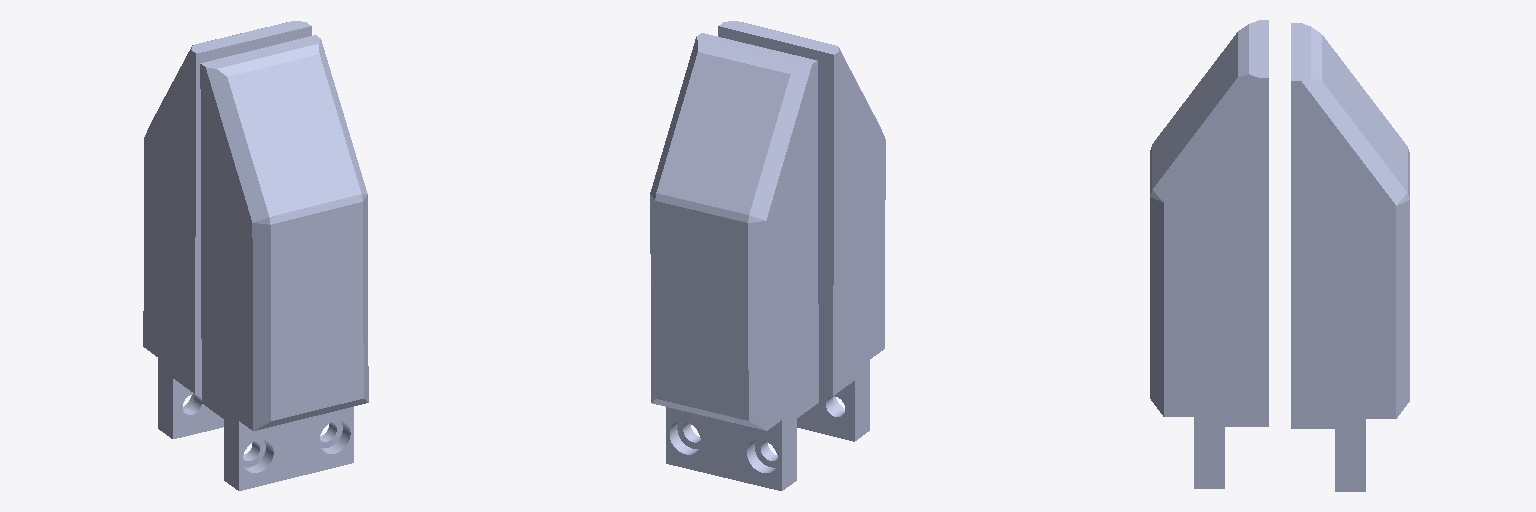
URDF robot description (wsg_32_description):
<?xml version="1.0"?>
<robot
  name="wsg_32_description">
  <link
    name="hand_link">
    <inertial>
      <origin
        xyz="-6.56023314178677E-06 -0.00175309107853196 0.0266239521718502"
        rpy="0 0 0" />
      <mass
        value="0.19187770361295" />
      <inertia
        ixx="0.000259095961095666"
        ixy="-4.42589635811335E-08"
        ixz="-8.19503266406055E-09"
        iyy="6.70924748330843E-05"
        iyz="-6.65748470338111E-06"
        izz="0.000219527960705521" />
    </inertial>
    <visual>
      <origin
        xyz="0 0 0"
        rpy="0 0 0" />
      <geometry>
        <mesh
          filename="package://wsg_32_description/meshes/hand_link.STL" />
      </geometry>
      <material
        name="">
        <color
          rgba="0.792156862745098 0.819607843137255 0.933333333333333 1" />
      </material>
    </visual>
    <collision>
      <origin
        xyz="0 0 0"
        rpy="0 0 0" />
      <geometry>
        <mesh
          filename="package://wsg_32_description/meshes/hand_link.STL" />
      </geometry>
    </collision>
  </link>
  <link
    name="wsg_50_gripper_base_link_gripper_left">
    <inertial>
      <origin
        xyz="-2.850603053553E-05 -0.00191114285188175 0.00382933445364996"
        rpy="0 0 0" />
      <mass
        value="3.41920163633724E-06" />
      <inertia
        ixx="3.06504383705634E-10"
        ixy="5.74222476890191E-11"
        ixz="-2.40533503848462E-10"
        iyy="4.90275789305826E-10"
        iyz="6.8945176052368E-11"
        izz="2.18298925049827E-10" />
    </inertial>
    <visual>
      <origin
        xyz="-0.00725 0 0.0004"
        rpy="0 1.57079 0" />
      <geometry>
        <mesh
          filename="package://wsg_32_description/meshes/left_finger_link.STL" />
      </geometry>
      <material
        name="">
        <color
          rgba="0.792156862745098 0.819607843137255 0.933333333333333 1" />
      </material>
    </visual>
    <collision>
      <origin
        xyz="0 0 0"
        rpy="0 0 0" />
      <geometry>
        <mesh
          filename="package://wsg_32_description/meshes/left_finger_link.STL" />
      </geometry>
    </collision>
  </link>
  <joint
    name="wsg_50_gripper_base_joint_gripper_left"
    type="prismatic">
    <origin
      xyz="-0.0003903 -0.0078 0.069014"
      rpy="3.1416 -1.5708 0" />
    <parent
      link="hand_link" />
    <child
      link="wsg_50_gripper_base_link_gripper_left" />
    <axis
      xyz="0 -1 0" />
    <limit
      lower="-0.028"
      upper="0"
      effort="0"
      velocity="0" />
  </joint>
  <link
    name="wsg_50_gripper_base_link_gripper_right">
    <inertial>
      <origin
        xyz="-2.72000777333109E-05 -0.00460993992652343 -0.00191114282807962"
        rpy="-1.57079 3.14159 -1.57079" />
      <mass
        value="3.41920163633724E-06" />
      <inertia
        ixx="3.06504383705634E-10"
        ixy="2.40533503848236E-10"
        ixz="5.74222476899625E-11"
        iyy="2.18298925050368E-10"
        iyz="-6.89451760534347E-11"
        izz="4.90275789305286E-10" />
    </inertial>
    <visual>
      <origin
        xyz="-0.00725 0 0.0004"
        rpy="-1.57079 3.14159  -1.57079" />
      <geometry>
        <mesh
          filename="package://wsg_32_description/meshes/right_finger_link.STL" />
      </geometry>
      <material
        name="">
        <color
          rgba="0.792156862745098 0.819607843137255 0.933333333333333 1" />
      </material>
    </visual>
    <collision>
      <origin
        xyz="0 0 0"
        rpy="0 0 0" />
      <geometry>
        <mesh
          filename="package://wsg_32_description/meshes/right_finger_link.STL" />
      </geometry>
    </collision>
  </link>
  <joint
    name="wsg_50_gripper_base_joint_gripper_right"
    type="prismatic">
    <origin
      xyz="-0.0003903 0.0078 0.069012"
      rpy="-1.5708 -1.5708 0" />
    <parent
      link="hand_link" />
    <child
      link="wsg_50_gripper_base_link_gripper_right" />
    <axis
      xyz="0 0 1" />
    <limit
      lower="0"
      upper="0.028"
      effort="0"
      velocity="0" />
  </joint>


  <!-- add fingers to actuated segments -->

  <link
    name="right_universal_finger_link">
    <inertial>
      <origin
        xyz="0 0 0"
        rpy="0 0 0" />
      <mass
        value="0.001" />
      <inertia
        ixx="3.06504383705634E-10"
        ixy="2.40533503848236E-10"
        ixz="5.74222476899625E-11"
        iyy="2.18298925050368E-10"
        iyz="-6.89451760534347E-11"
        izz="4.90275789305286E-10" />
    </inertial>
    <visual>
      <origin
        xyz="-0.01 0 0.00"
        rpy="0 0 0" />
      <geometry>
        <mesh
          filename="package://wsg_32_description/meshes/gelsight_finger.stl" />
      </geometry>
      <material
        name="">
        <color
          rgba="0.792156862745098 0.819607843137255 0.933333333333333 1" />
      </material>
    </visual>
    <collision>
      <origin
        xyz="0 0 0"
        rpy="0 0 0" />
      <geometry>
        <mesh
          filename="package://wsg_32_description/meshes/gelsight_finger.stl" />
      </geometry>
    </collision>
  </link>
  <joint
    name="right_universal_finger_joint"
    type="fixed">
    <origin
      xyz="0.00755 0.0 0.0049"
      rpy="0 -1.57079 -1.57079" />
    <parent
      link="wsg_50_gripper_base_link_gripper_right" />
    <child
      link="right_universal_finger_link" />
  </joint>

  <link
    name="left_universal_finger_link">
    <inertial>
      <origin
        xyz="0 0 0"
        rpy="0 0 0" />
      <mass
        value="0.001" />
      <inertia
        ixx="3.06504383705634E-10"
        ixy="2.40533503848236E-10"
        ixz="5.74222476899625E-11"
        iyy="2.18298925050368E-10"
        iyz="-6.89451760534347E-11"
        izz="4.90275789305286E-10" />
    </inertial>
    <visual>
      <origin
        xyz="-0.00 0 0.00"
        rpy="0 0 0" />
      <geometry>
        <mesh
          filename="package://wsg_32_description/meshes/gelsight_finger.stl" />
      </geometry>
      <material
        name="">
        <color
          rgba="0.792156862745098 0.819607843137255 0.933333333333333 1" />
      </material>
    </visual>
    <collision>
      <origin
        xyz="0 0 0"
        rpy="0 0 0" />
      <geometry>
        <mesh
          filename="package://wsg_32_description/meshes/gelsight_finger.stl" />
      </geometry>
    </collision>
  </link>
  <joint
    name="left_universal_finger_joint"
    type="fixed">
    <origin
      xyz="0.00755 -0.0045 0"
      rpy="0 3.14159 -1.57079" />
    <parent
      link="wsg_50_gripper_base_link_gripper_left" />
    <child
      link="left_universal_finger_link" />
  </joint>

</robot>

--- Facts derived from the render (not from the file) ---
Views: 3 orthographic renders of the robot side by side, from view 1: azimuth 30°, elevation 25°; view 2: azimuth 150°, elevation 25°; view 3: azimuth 270°, elevation 25°.
Robot: wsg_32_description — 5 links, 4 joints (2 prismatic, 2 fixed); root link hand_link; default pose: all joints at 0.
Links seen in each view (by area): view 1: left_universal_finger_link, right_universal_finger_link; view 2: right_universal_finger_link, left_universal_finger_link; view 3: left_universal_finger_link, right_universal_finger_link.
Link boxes in pixels (box(x1,y1,x2,y2)): left_universal_finger_link: box(200, 35, 368, 490); right_universal_finger_link: box(143, 21, 311, 438); right_universal_finger_link: box(650, 33, 818, 490); left_universal_finger_link: box(718, 21, 885, 441); left_universal_finger_link: box(1150, 20, 1268, 488); right_universal_finger_link: box(1291, 23, 1409, 491).
Bounding box of the posed robot: 0.0316 × 0.0572 × 0.0999 m (x, y, z).
Meshes: 4 distinct files referenced, 2 mesh visuals loaded (1 binary STL); not drawn: 3 (reference not matched to a file when rendering).